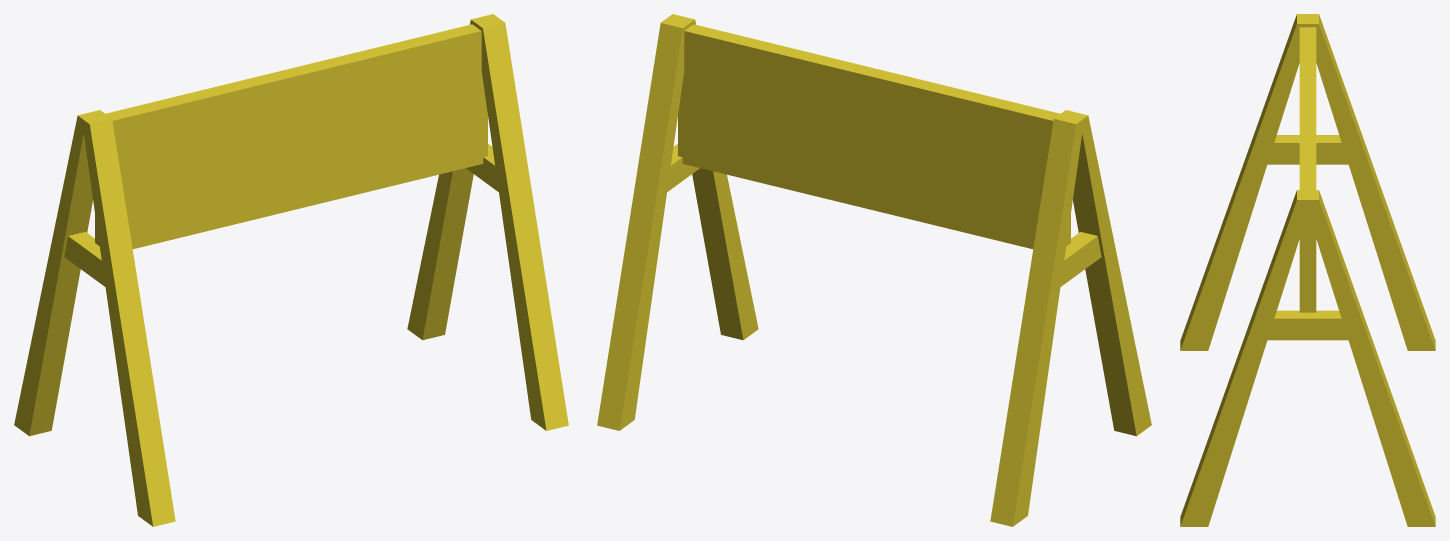
File: kerning_barrier.gltf
The picture shows the model from 3 angles, left to right: view 1: azimuth 30°, elevation 25°; view 2: azimuth 150°, elevation 25°; view 3: azimuth 270°, elevation 25°; orthographic projection. The views are drawn at different scales.
Parts seen in each view (by area): view 1: Cube; view 2: Cube; view 3: Cube.
Boxes of the visible parts, bbox=[...] form: Cube: bbox=[14, 14, 568, 526]; Cube: bbox=[597, 14, 1151, 526]; Cube: bbox=[1180, 14, 1435, 526].
Bounding box in the file's own units: 9.14 × 7.49 × 5.3.
